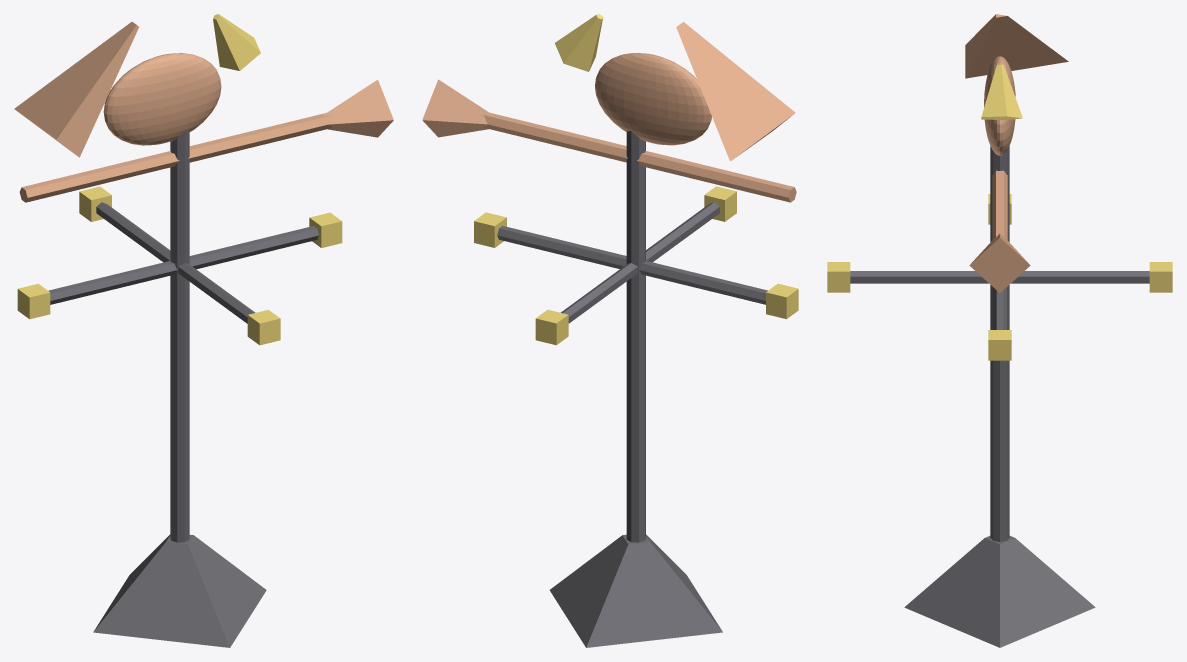
Rendered from weather_vane.glb.
3 renders of one model, left to right at view 1: azimuth 30°, elevation 25°; view 2: azimuth 150°, elevation 25°; view 3: azimuth 270°, elevation 25°, orthographic. The views are drawn at different scales.
Visible parts, largest first — view 1: Cone, Sphere, Cylinder, Cone.002, Cylinder.003, Cylinder.002, Cylinder.001, Cone.001, Cone.003, Cube.003, Cube.001, Cube.002 (+1 smaller); view 2: Cone, Sphere, Cylinder, Cone.002, Cylinder.003, Cylinder.002, Cylinder.001, Cone.001, Cone.003, Cube, Cube.003, Cube.002 (+1 smaller); view 3: Cone, Cylinder, Cone.002, Cylinder.001, Cone.001, Cone.003, Sphere, Cylinder.003, Cube, Cube.001, Cube.002, Cylinder.002.
Boxes of the visible parts, x1,y1,x2,y2 form: Cone: (93,534,266,647); Sphere: (103,53,221,145); Cylinder: (170,131,189,542); Cone.002: (14,21,138,157); Cylinder.003: (19,113,332,202); Cylinder.002: (48,226,318,304); Cylinder.001: (96,202,255,323); Cone.001: (322,79,393,137); Cone.003: (213,14,260,70); Cube.003: (17,283,50,319); Cube.001: (247,310,280,345); Cube.002: (309,212,342,247); Cone: (549,534,722,647); Sphere: (595,53,711,145); Cylinder: (626,131,645,542); Cone.002: (676,22,795,161); Cylinder.003: (483,113,796,202); Cylinder.002: (497,226,767,304); Cylinder.001: (561,202,719,323); Cone.001: (422,79,493,137); Cone.003: (555,14,603,71); Cube: (535,309,568,345); Cube.003: (766,283,798,319); Cube.002: (474,212,506,247); Cone: (904,536,1095,647); Cylinder: (990,146,1009,541); Cone.002: (965,14,1068,78); Cylinder.001: (850,271,1149,283); Cone.001: (969,234,1030,292); Cone.003: (981,64,1022,120); Sphere: (984,56,1015,155); Cylinder.003: (992,170,1007,239); Cube: (1149,262,1172,292); Cube.001: (827,262,850,292); Cube.002: (988,330,1011,360); Cylinder.002: (993,287,1006,329).
Size of the model in its own units: 1.02 by 1.65 by 0.9.
